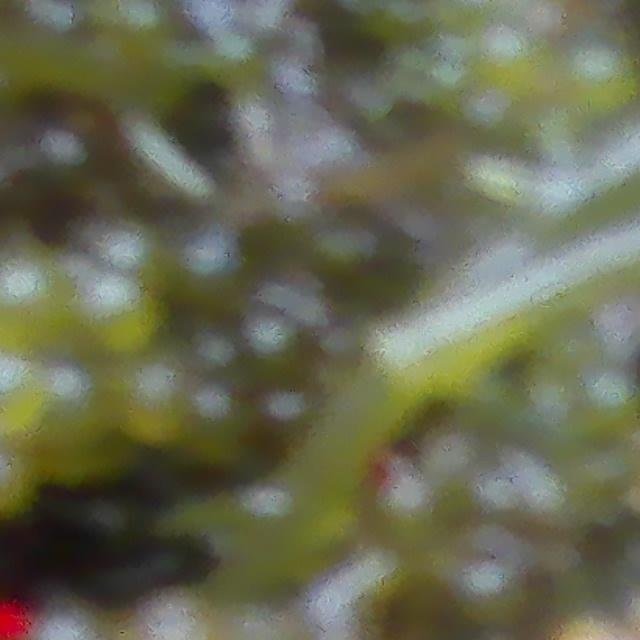SeaGrape: (558, 33, 640, 122), (579, 366, 640, 436)
